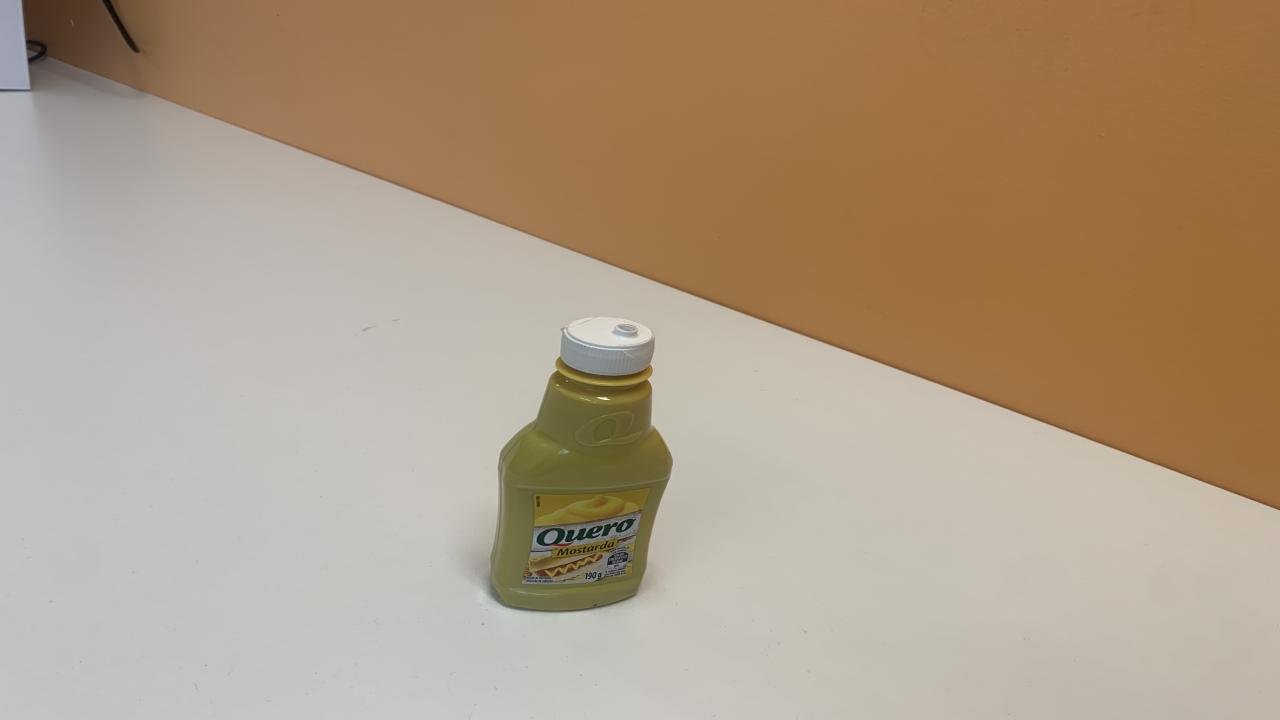Mustard-Pantry_Items: (487, 317, 674, 616)
